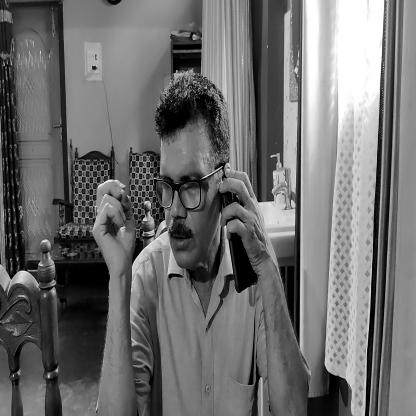Distracted: (152, 72, 230, 277)
